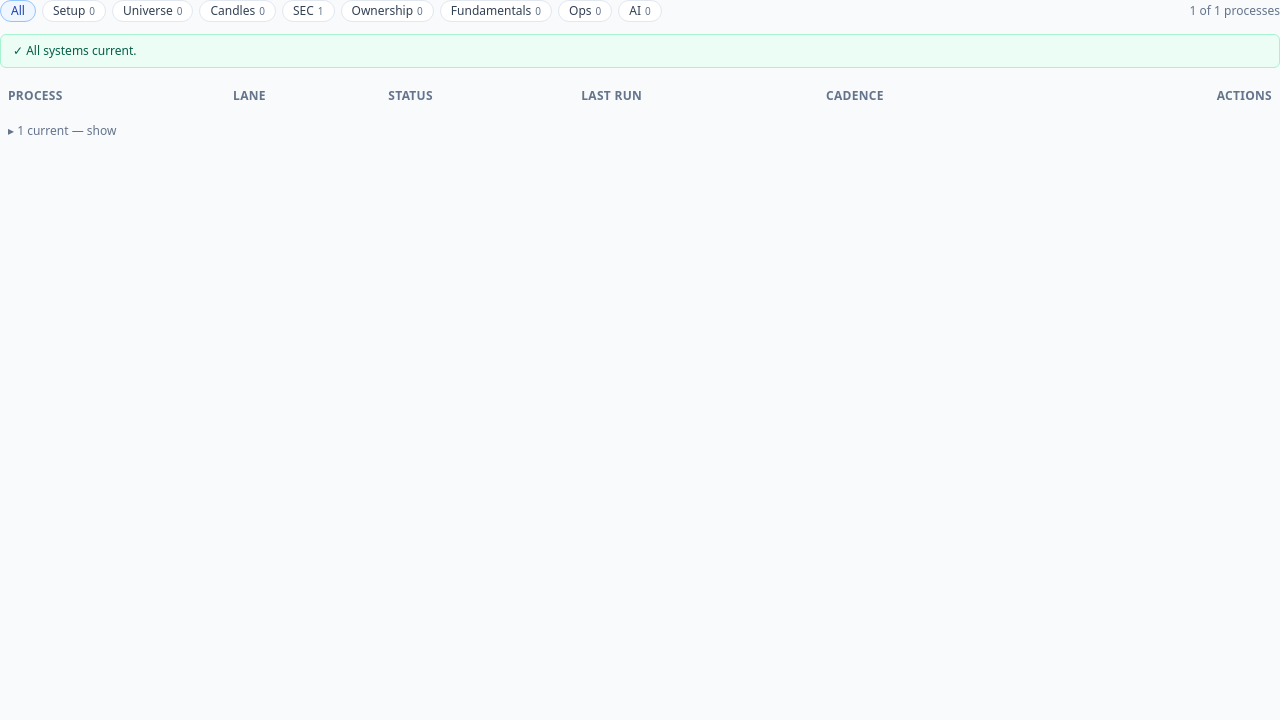
Scenario: admin a11y — confirm modals › Full-wash confirm dialog has no axe violations
Click the button "▸ 1 current — show" at (62, 131), box [8,123,116,139]
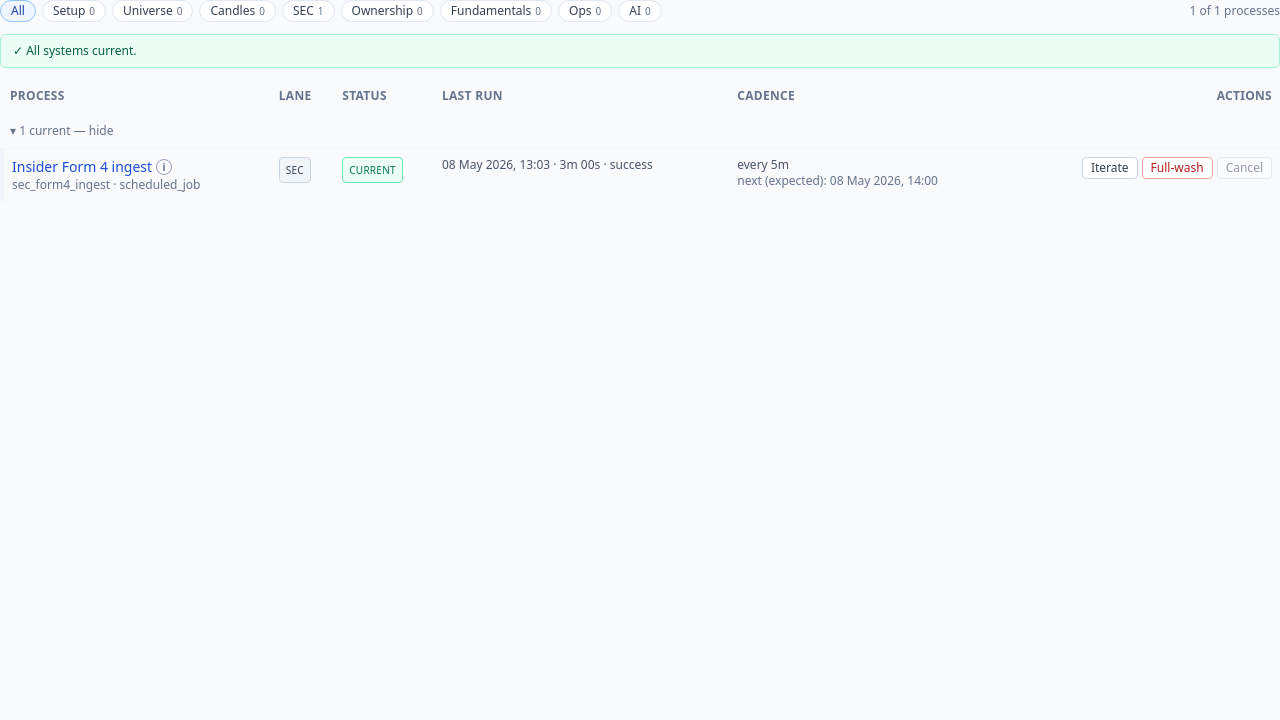
Click the button "Full-wash" at (1177, 168), box [1142,157,1213,179]
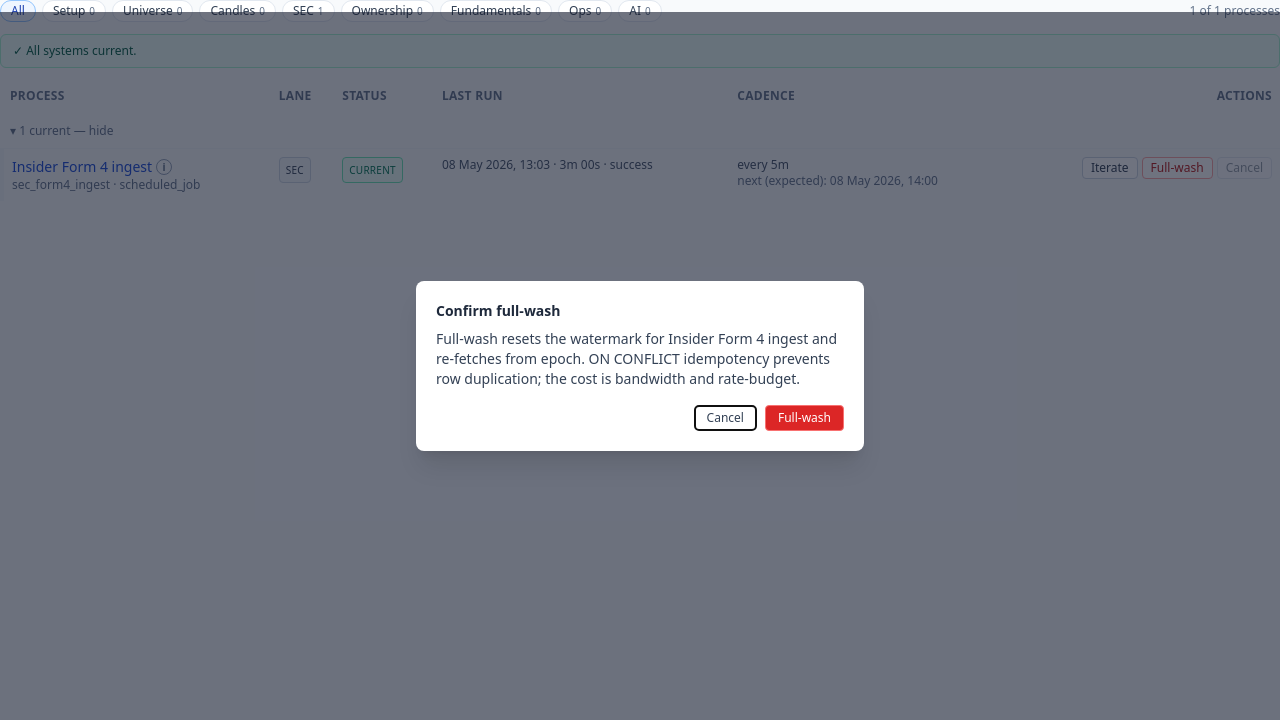
Expected: the dialog is shown, [416,281,864,451]
